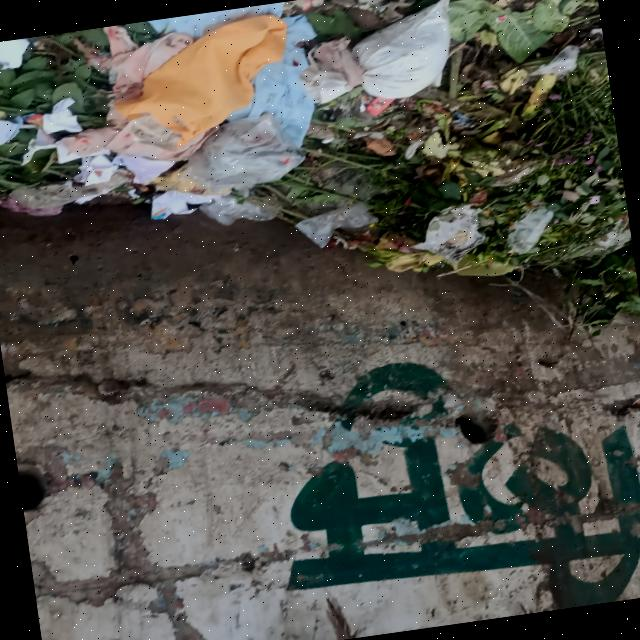garbage: (307, 0, 633, 293), (0, 0, 321, 259)
